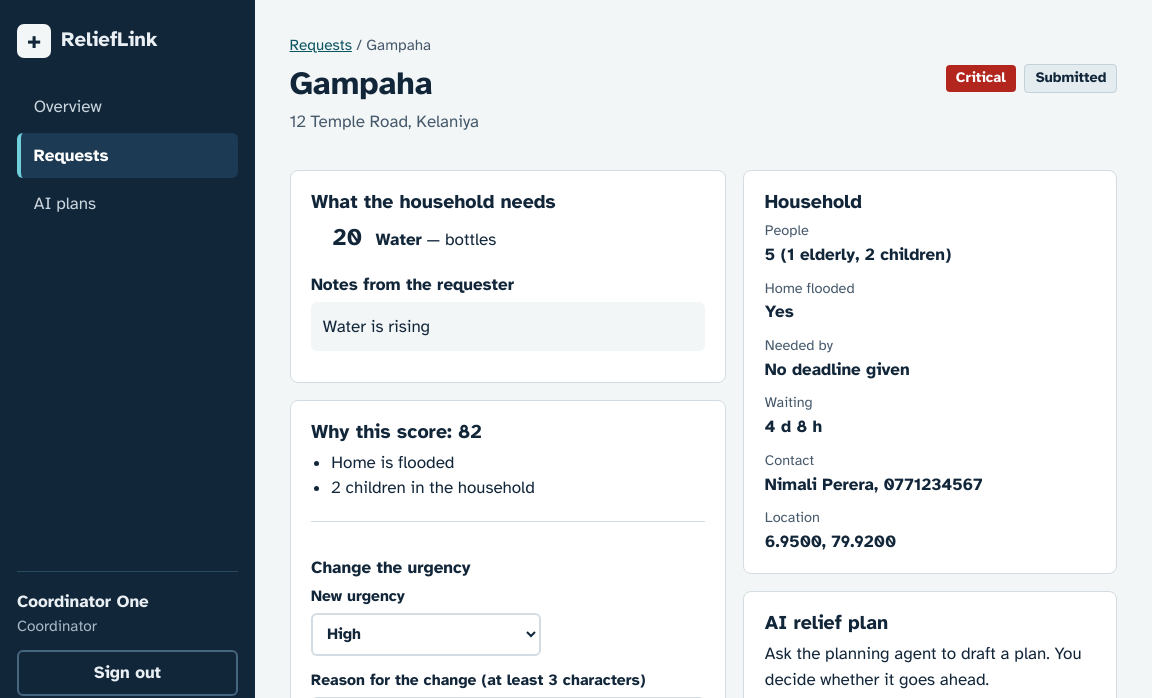
it: Request detail › sends the override and shows the updated urgency
Select "Medium" in the dropdown labelled "New urgency" at (426, 634), box [311,613,541,656]
(page scrolled)
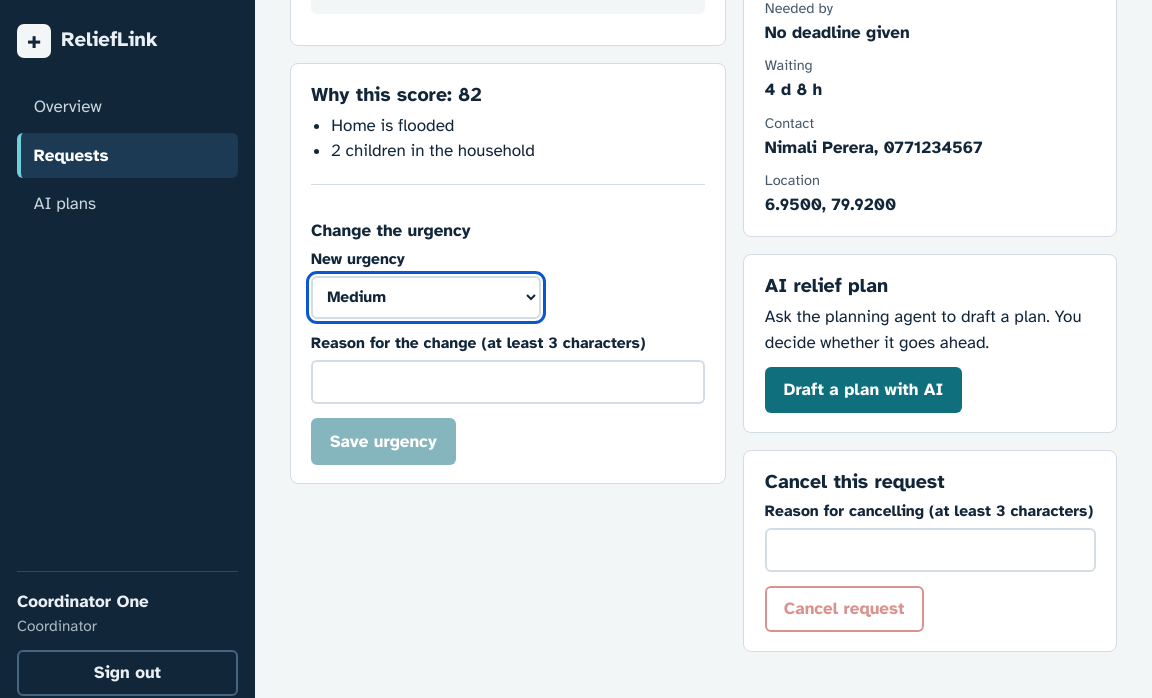
Type "Checked by phone" into the field labelled "Reason for the change (at least 3 characters)".
click(508, 382); type("Checked by phone")  # box [311,360,705,404]
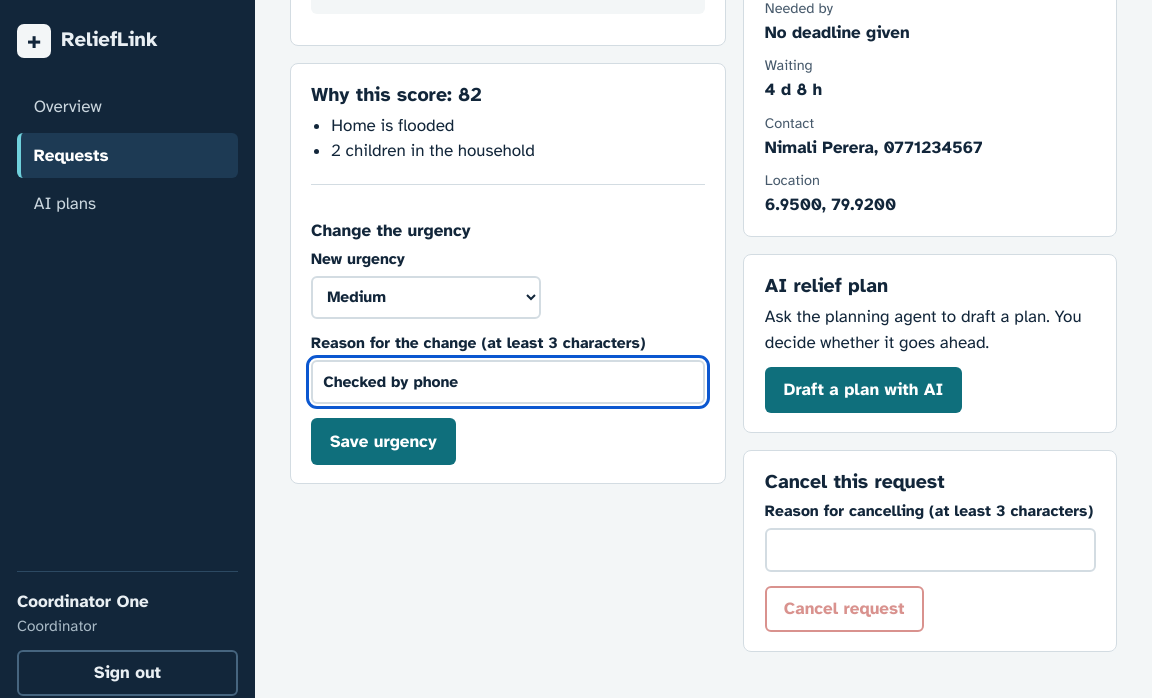
Click the button "Save urgency".
click(383, 441)  # box [311,418,456,465]
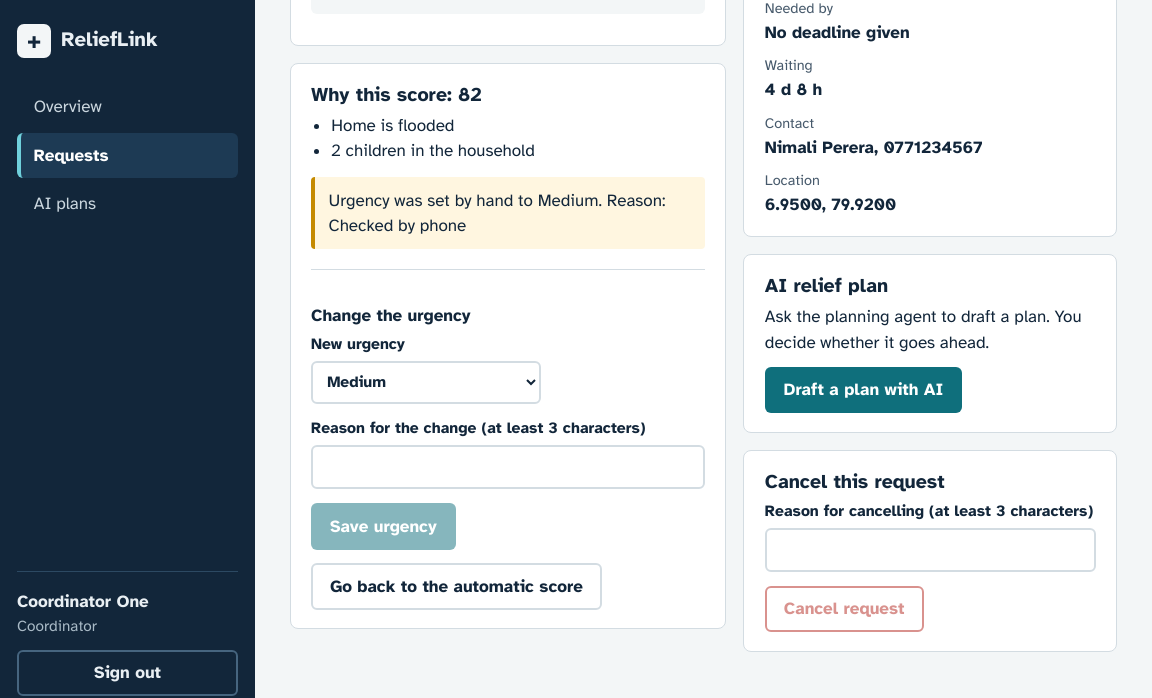
Expected: the text "Urgency was set by hand to Medium. Reason: Checked by phone" is shown, [311,177,705,249]
Expected: the button "Go back to the automatic score" is shown, [311,563,602,610]
